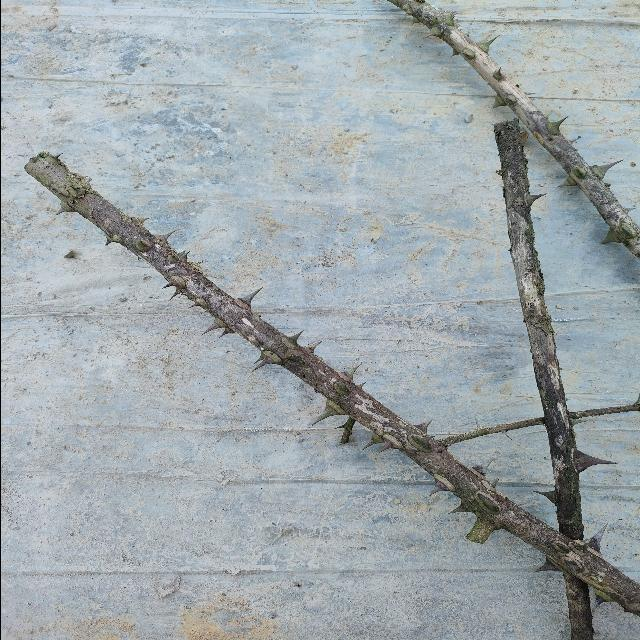branch: (24, 153, 640, 620), (395, 0, 640, 257)
